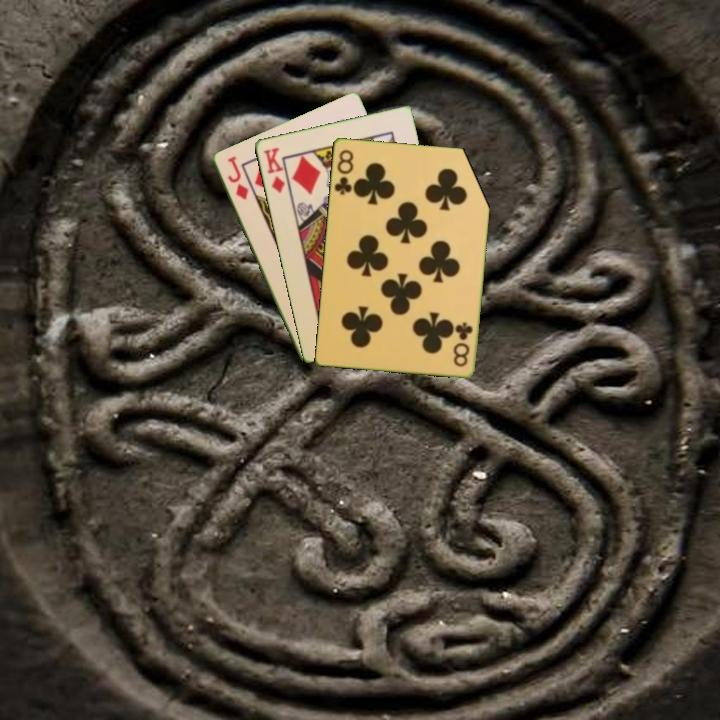8c: (330, 146, 356, 197), (450, 319, 475, 369)
Jd: (223, 152, 251, 203)
Kd: (260, 144, 287, 196)
